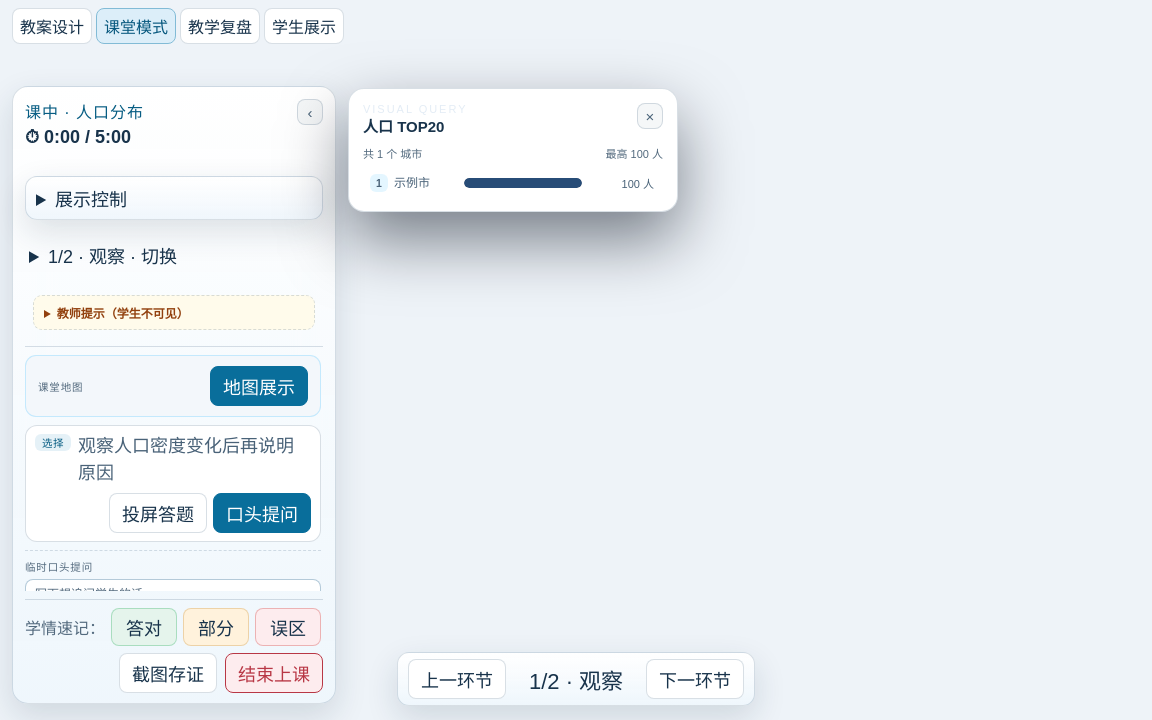
it: classroom student display integration › clears the foreground ranking popup while a teacher reads the review report
Expected: the element with test id "class-run-panel" is shown, [12,86,336,704]
Expected: the dialog with test id "visual-query-popup" is shown, [348,88,678,212]
Click the button "教学复盘": (220, 26) [180,8,260,44]
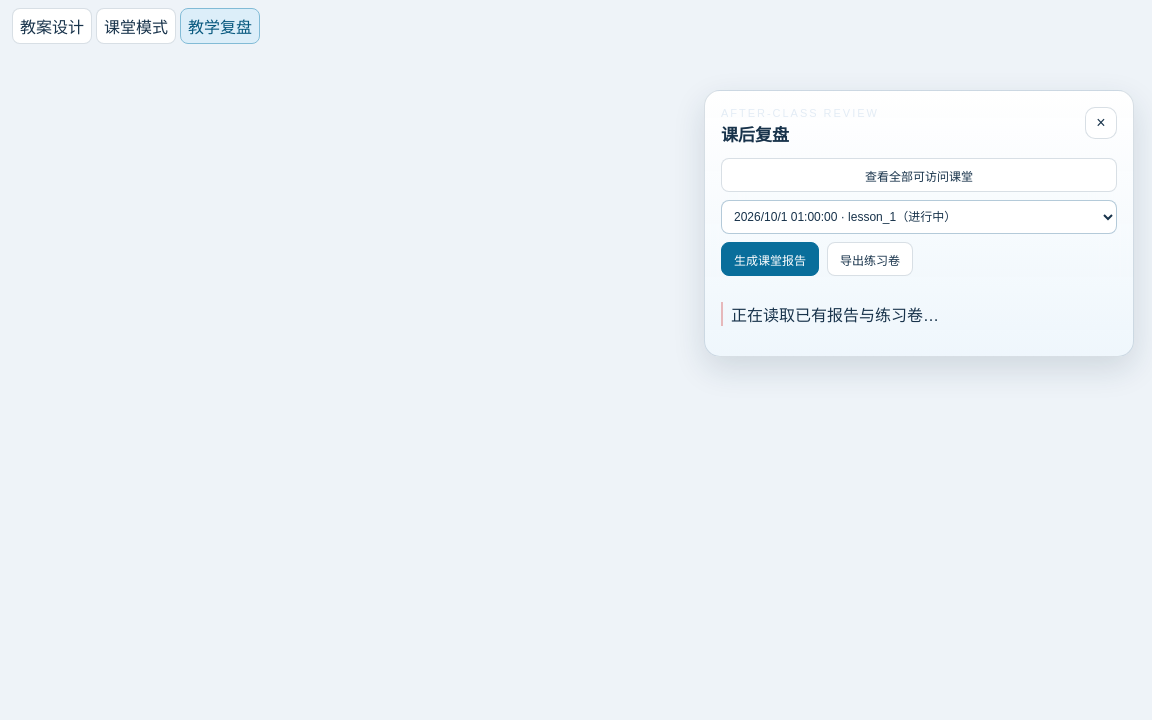
Expected: the element with test id "report-panel" is shown, [704,90,1134,357]
Expected: the dialog with test id "visual-query-popup" is gone
